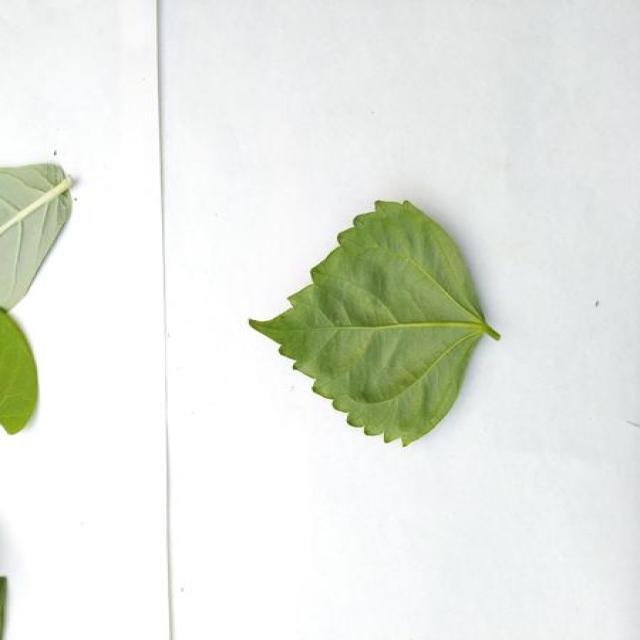Hibiscus: (250, 201, 500, 444)
